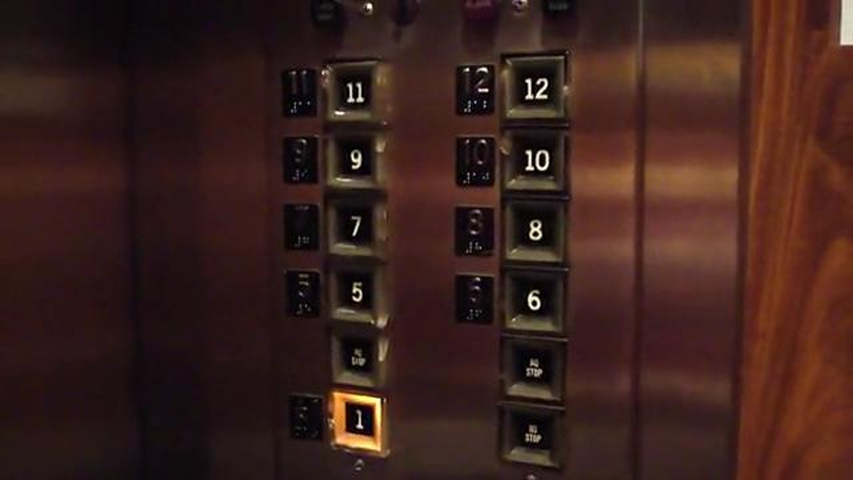1: (323, 382, 395, 461)
10: (493, 126, 574, 201), (448, 130, 498, 193)
11: (318, 57, 395, 133), (279, 64, 319, 122)
12: (496, 48, 578, 131), (449, 60, 498, 122)
5: (324, 258, 394, 330), (282, 266, 327, 321)
6: (497, 263, 570, 338), (449, 271, 500, 328)
7: (321, 192, 393, 264), (280, 201, 323, 255)
8: (498, 197, 574, 268), (451, 201, 499, 262)
9: (318, 122, 391, 197), (274, 133, 323, 189)
text_blur: (496, 400, 573, 473), (496, 333, 568, 405), (327, 322, 394, 393), (285, 387, 327, 446)
